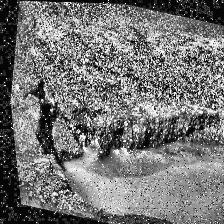pothole: (6, 64, 224, 224)
